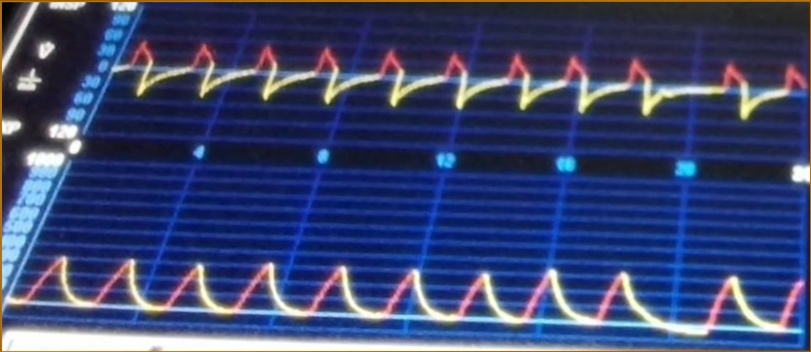Premature_cycling Flow: (121, 28, 807, 140)
Premature_cycling Volume: (17, 253, 804, 338)
